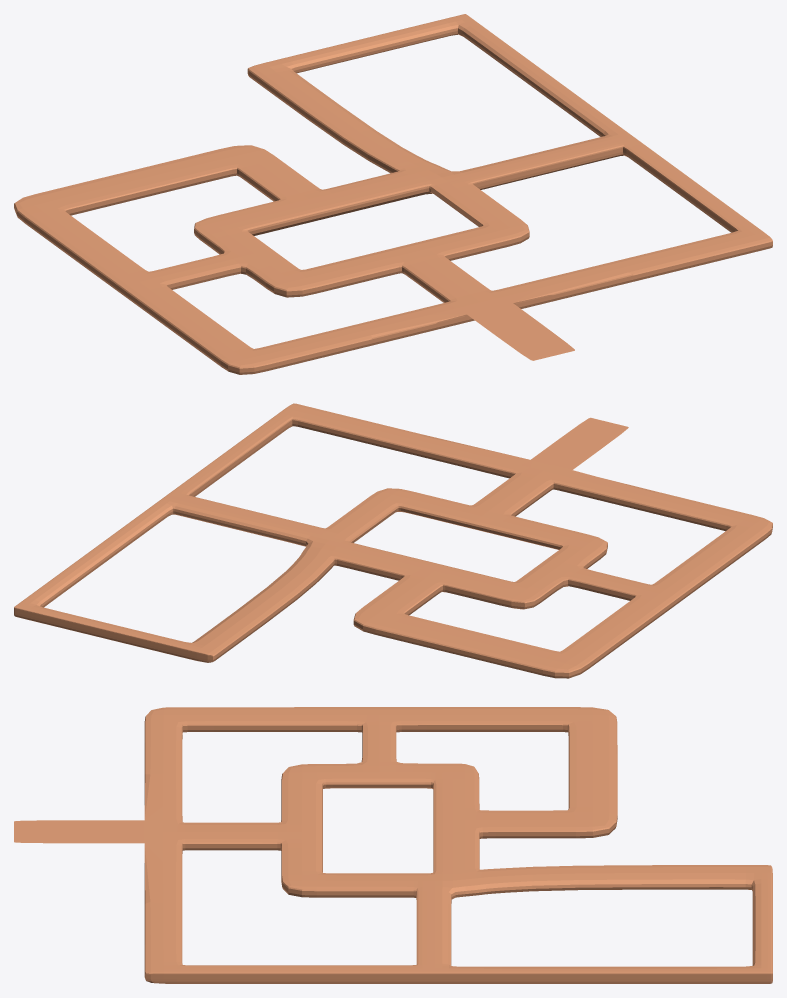
The model's file is Path_Pre_Finished.fbx.
The picture shows the model from 3 angles, top to bottom: view 1: azimuth 30°, elevation 25°; view 2: azimuth 150°, elevation 25°; view 3: azimuth 270°, elevation 25°; orthographic projection. The views are drawn at different scales.
Parts seen in each view (by area): view 1: Pad Level 4; view 2: Pad Level 4; view 3: Pad Level 4.
Boxes of the visible parts, bbox=[...] form: Pad Level 4: bbox=[14, 14, 772, 374]; Pad Level 4: bbox=[14, 403, 772, 678]; Pad Level 4: bbox=[14, 707, 772, 983].
Size of the model in its own units: 9930 by 200 by 11923.
